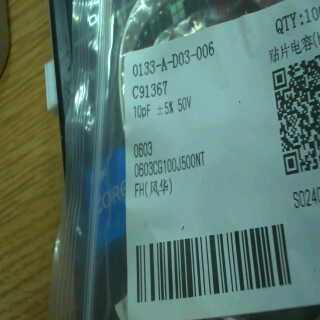10pF: (130, 101, 153, 122)
